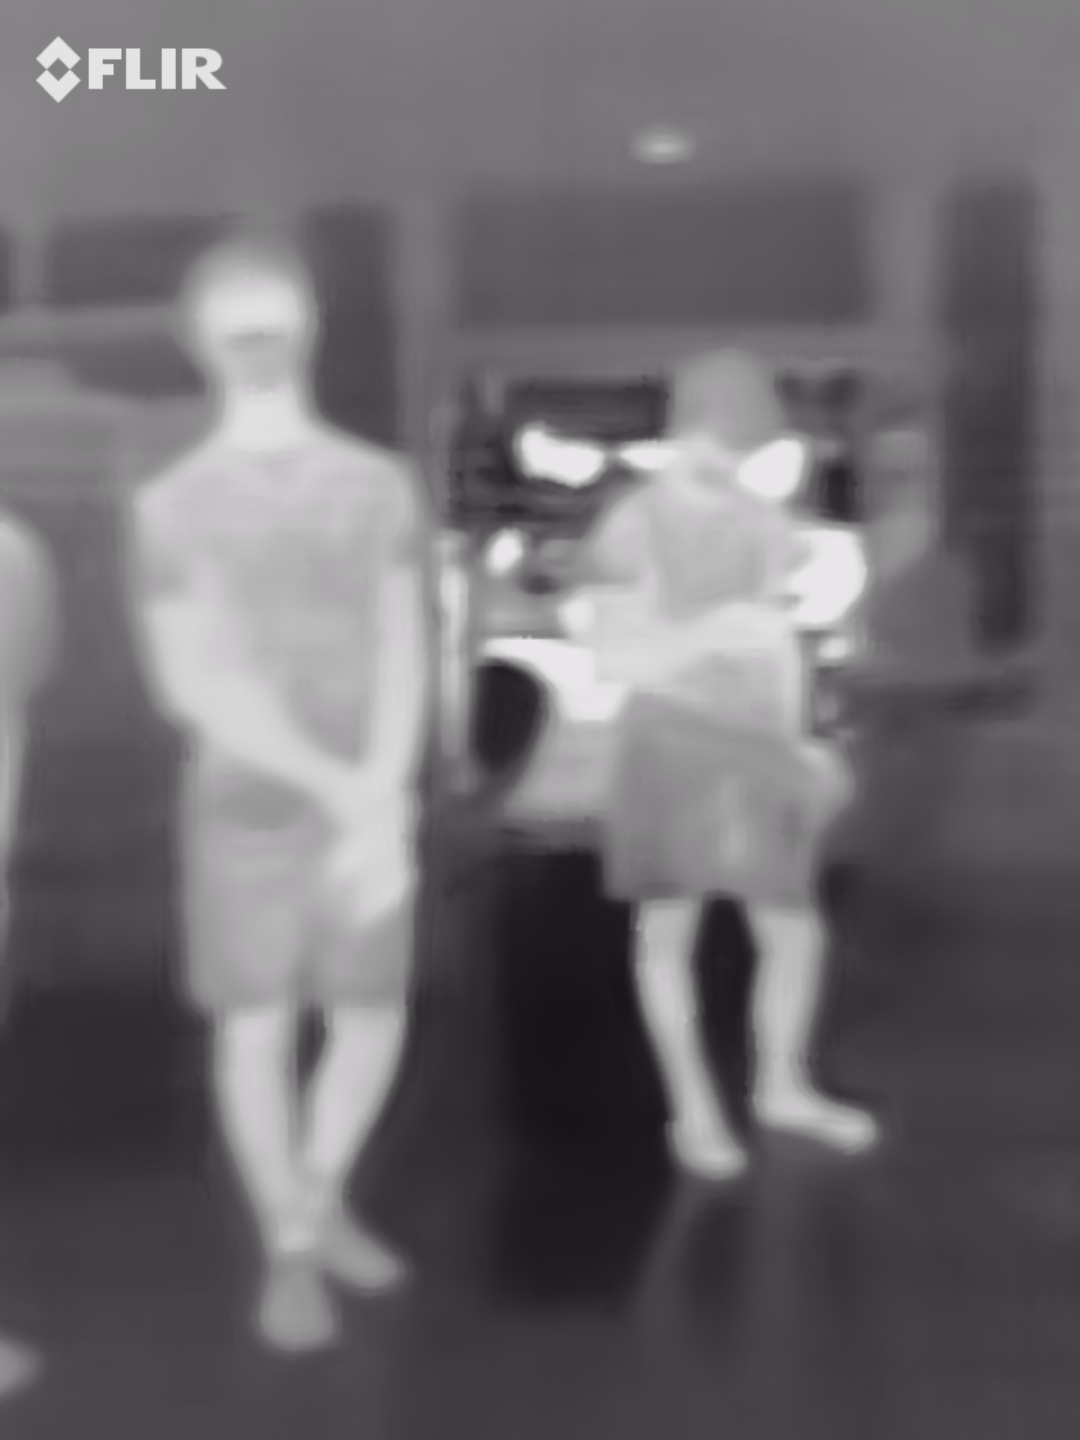head: (169, 234, 342, 406), (659, 350, 785, 492)
